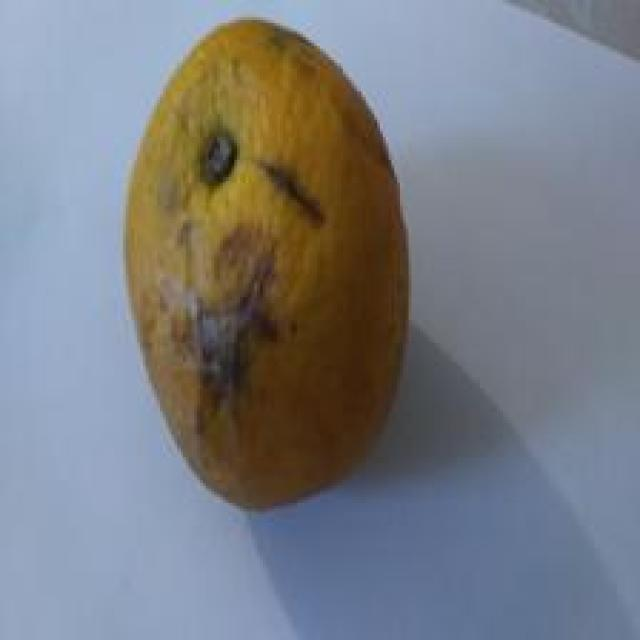overripe: (123, 9, 416, 521)
